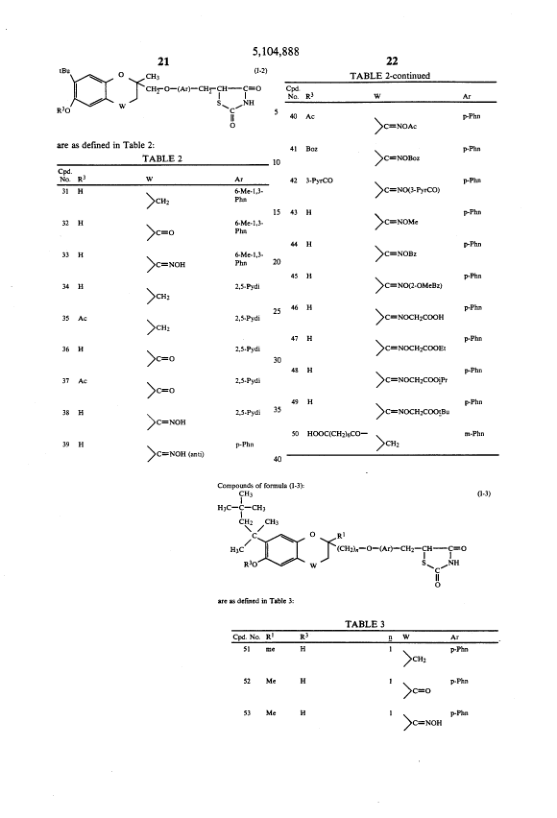compound-structure: (201, 482, 479, 596), (38, 54, 271, 135), (304, 428, 401, 453), (366, 400, 452, 423), (370, 307, 446, 332), (371, 177, 444, 203), (372, 272, 445, 298), (369, 339, 450, 360), (144, 442, 208, 467), (374, 371, 453, 391), (371, 143, 426, 170), (398, 710, 446, 736), (134, 255, 187, 278), (370, 113, 418, 136), (373, 211, 421, 234), (140, 219, 182, 245), (139, 378, 179, 400), (142, 413, 190, 431), (371, 246, 419, 263), (145, 185, 174, 213), (143, 348, 179, 370), (401, 677, 431, 701), (396, 649, 430, 670), (145, 314, 171, 338), (145, 286, 171, 306)
